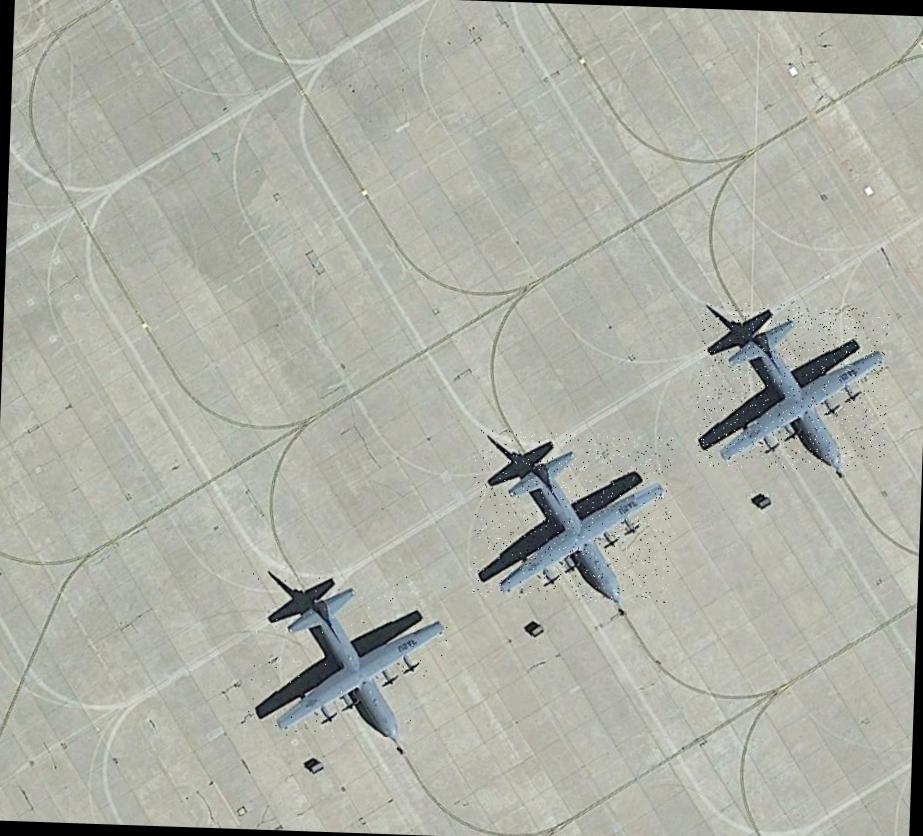A2: (247, 564, 450, 742), (470, 430, 674, 604), (694, 302, 889, 472)
